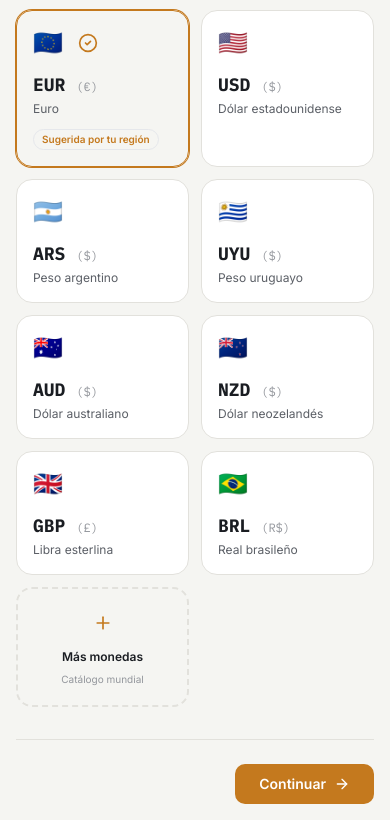
Test: WelcomeWizard › avanza a paso 3 de categorías y permite agregar categorías personalizadas
The width and height of the screenshot is (390, 820).
(page scrolled)
Click the button "Continuar". click: x=305, y=784
box: [235,764,374,804]
(page scrolled)
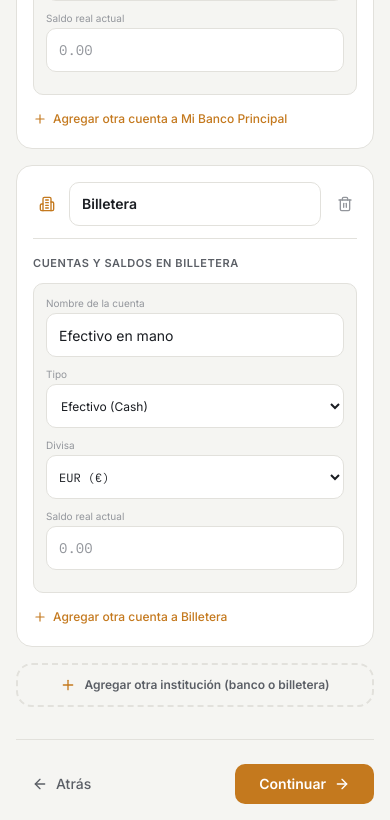
Click the button "Continuar". click: x=305, y=784
box: [235,764,374,804]
(page scrolled)
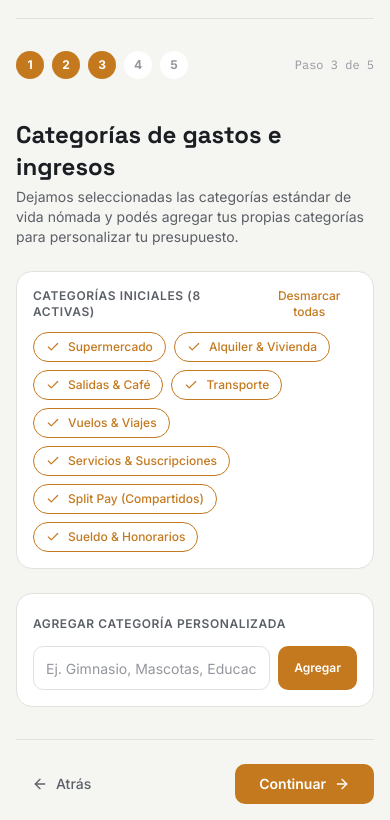
expect the heading "Categorías de gastos e ingresos" is shown: met, box [16,119,282,182]
expect the text "Paso 3 de 5" is shown: met, box [295,57,374,73]
expect the text "Supermercado" is shown: met, box [68,339,153,355]
# Agregar categoría personalizada
Type "Gimnasio" into the field with placeholder "Ej. Gimnasio, Mascotas, Educación...". click: x=152, y=668
box: [33,646,270,690]
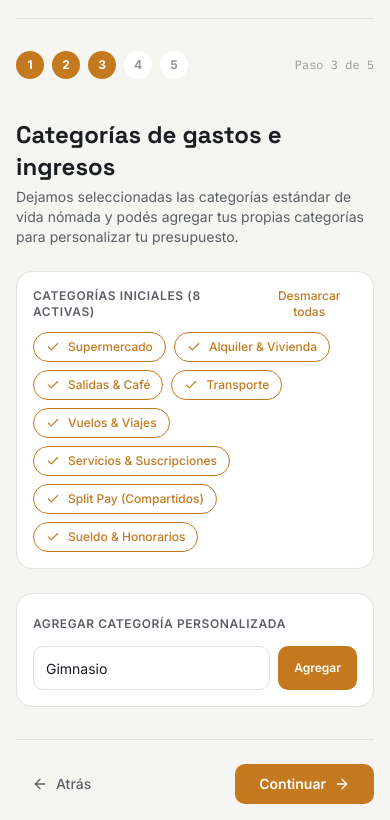
Click the button "Agregar". click: x=318, y=668
box: [278,646,357,690]
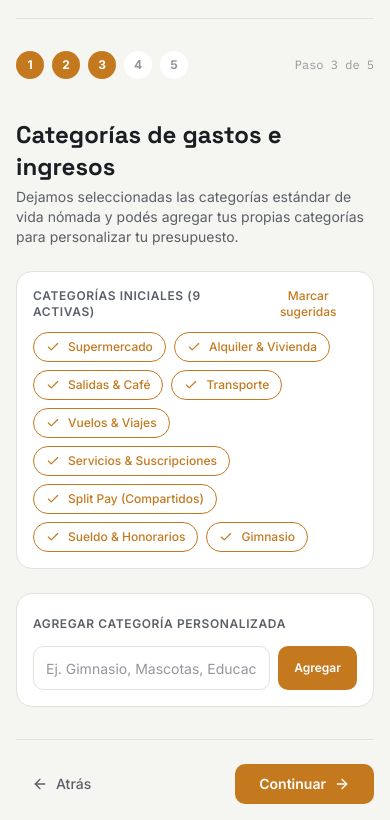
expect the text "Gimnasio" is shown: met, box [242,529,295,545]
